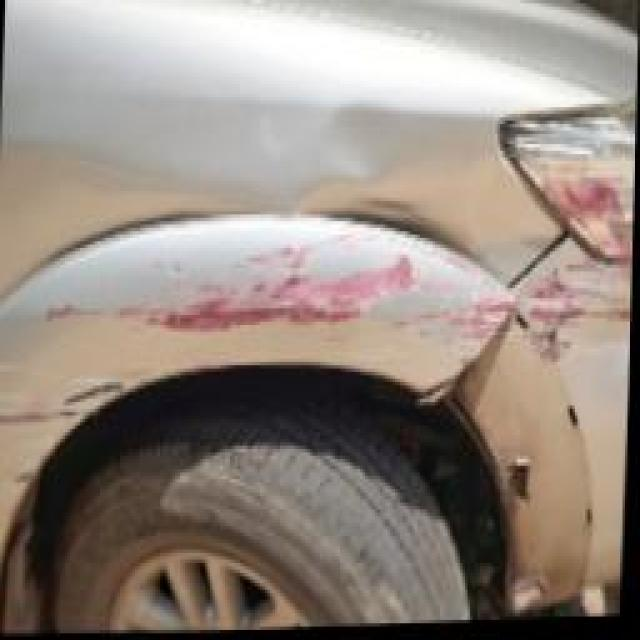Bumper: (490, 258, 632, 597)
Fender: (0, 87, 538, 489)
Light: (542, 124, 630, 257)
